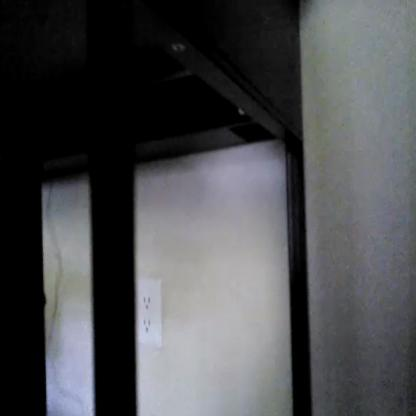OUTLET: (136, 279, 163, 350)
